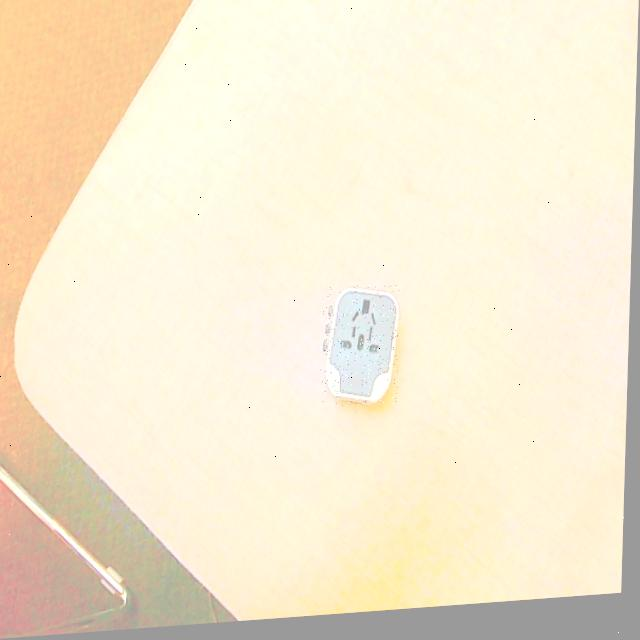adapter: (322, 288, 403, 413)
